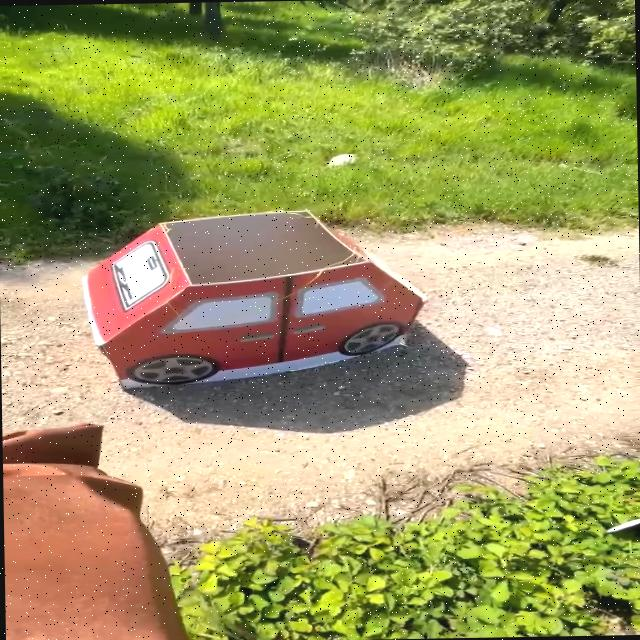red_car: (57, 198, 434, 431)
